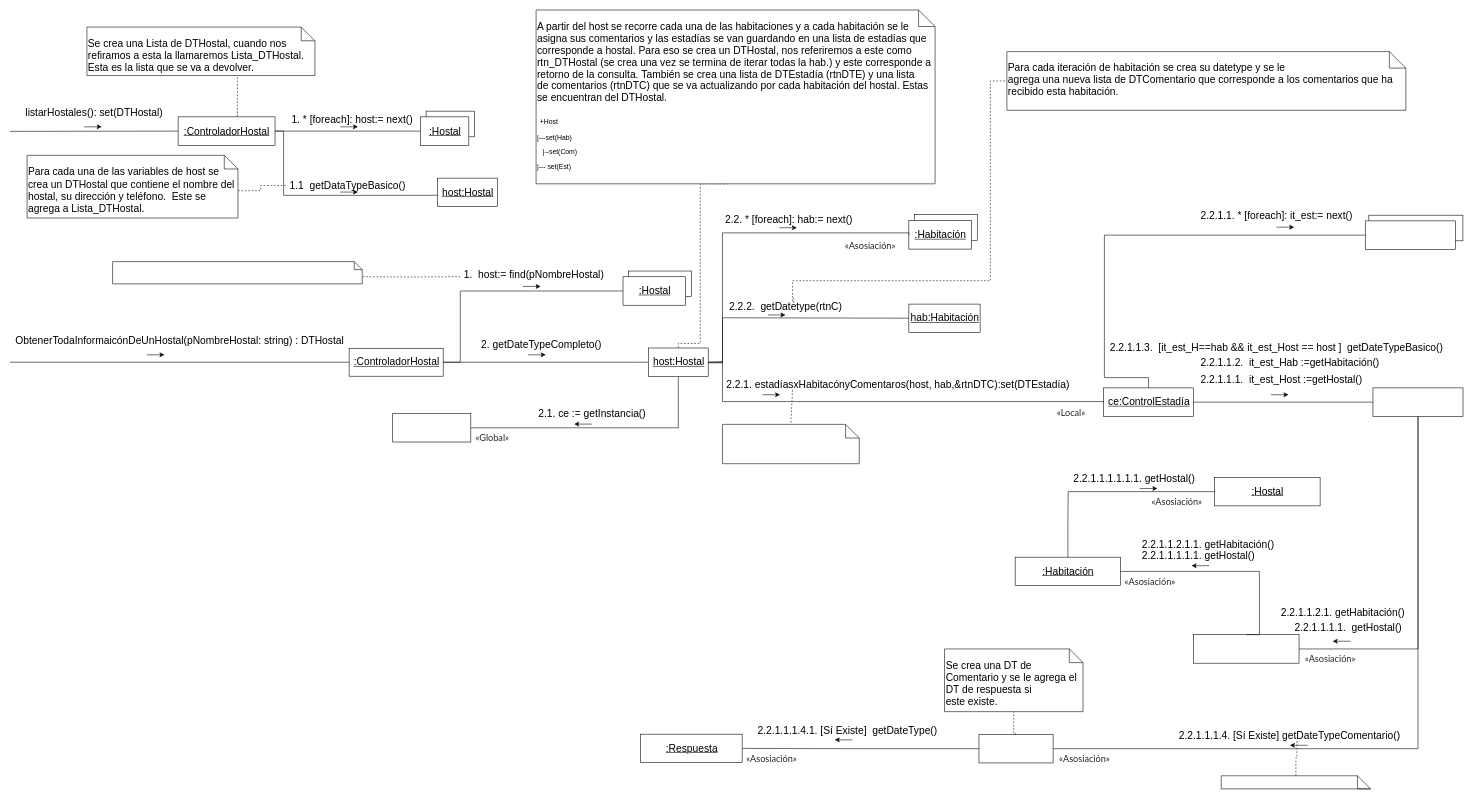
The diagram is 1473 pixels wide and 799 high, and some of its shapes have lost their labels. Here are the shapes that lost their labels. From the top down, the centre of each, then its label:
At (1410,234): ":Estadía".
At (237,272): "Si el Hostal que se busca no existe de devuelve null.".
At (1417,401): "it_est :Estadía".
At (431,427): ":ControlEstadía".
At (790,444): "Se agreta el conjunto de estadia a la lista rtnDTE.".
At (1246,648): ":Reserva".
At (1015,748): ":Comentario".
At (1296,782): "Este DT se agrega a rtnDTC".
